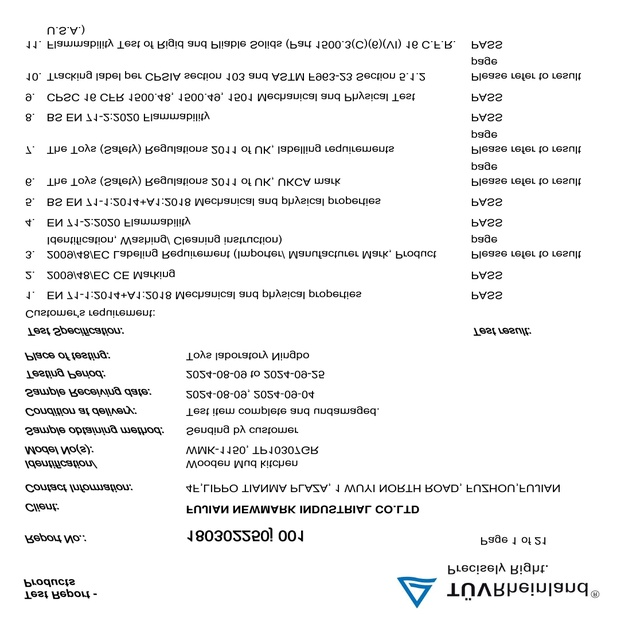tuv_rheinland: (391, 571, 612, 614)
